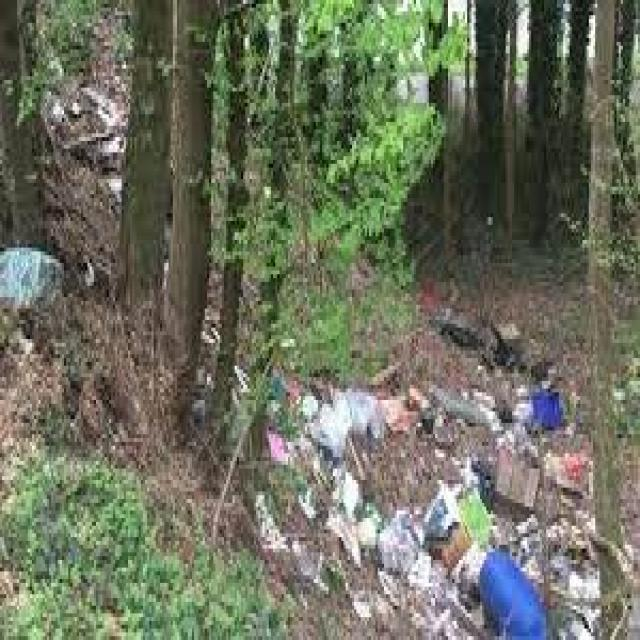garbage: (262, 266, 570, 640)
